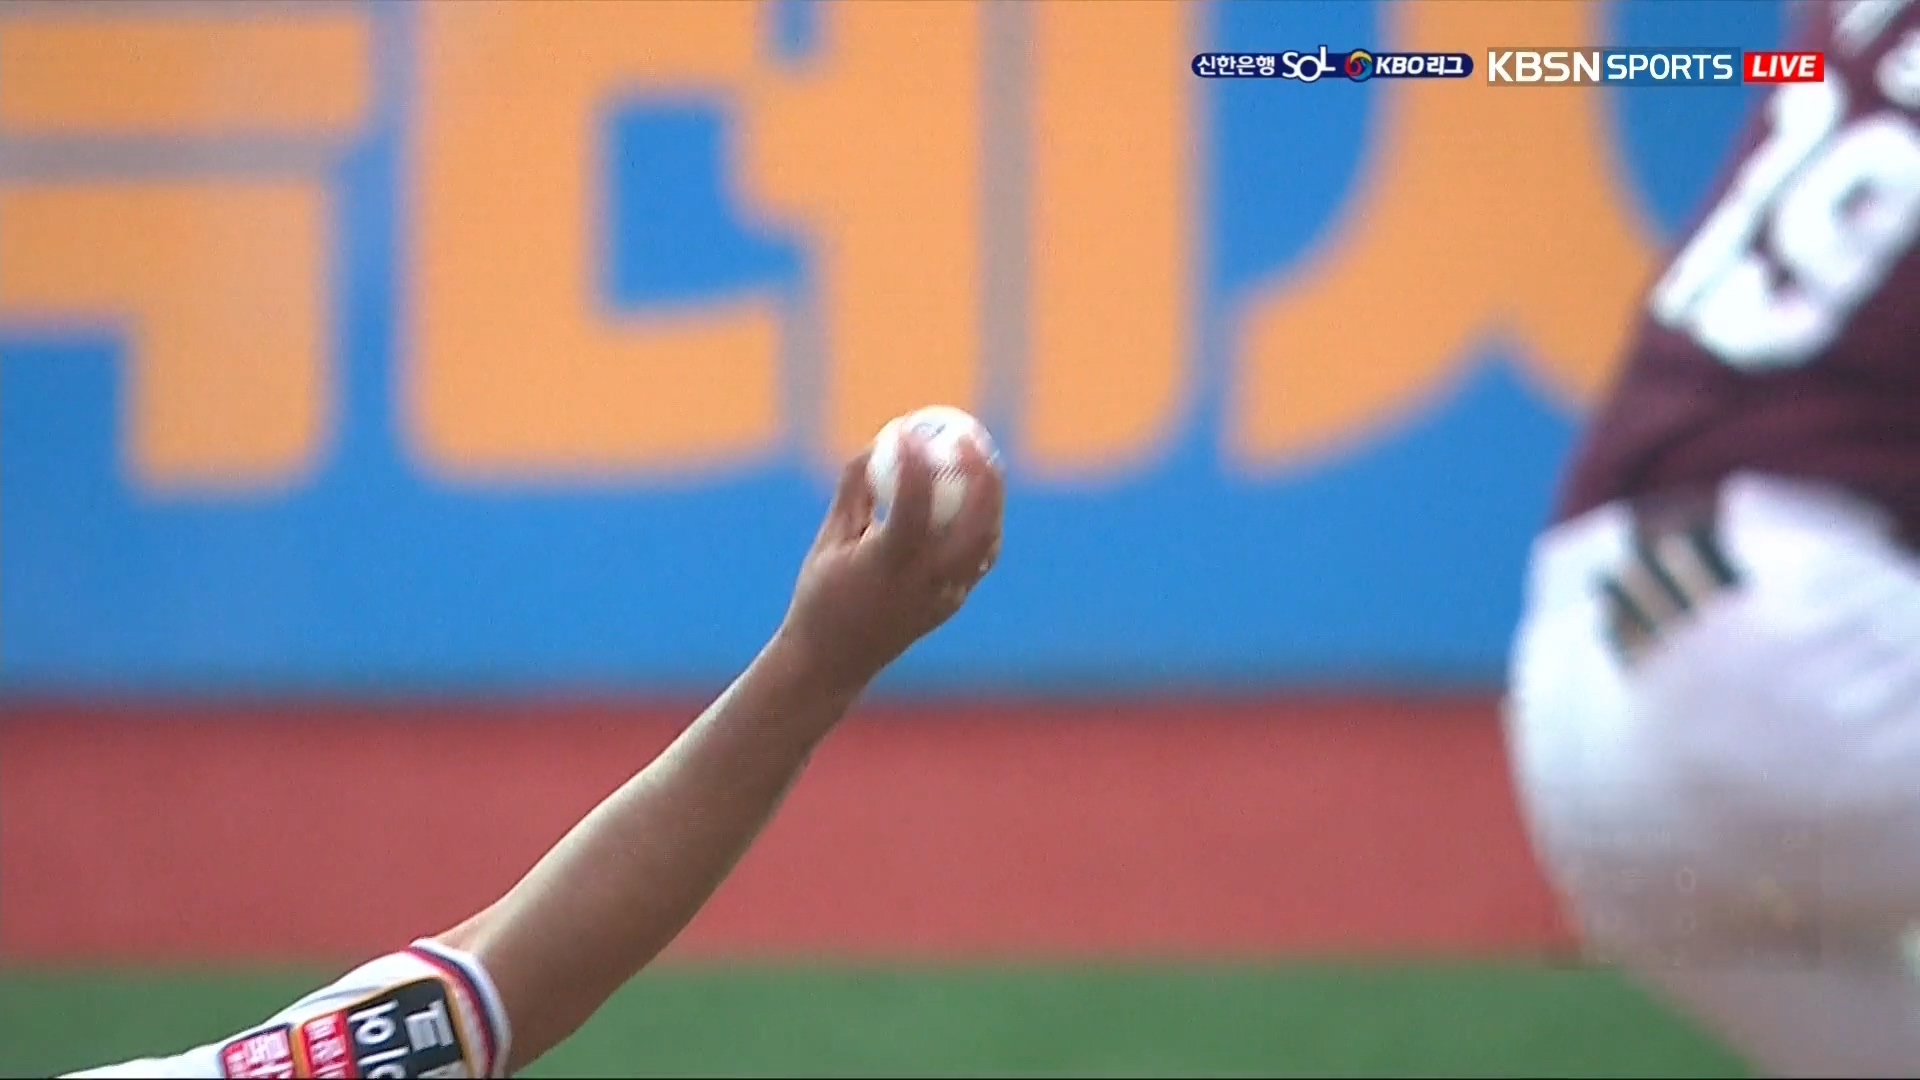zoomin_hand: (498, 402, 1027, 1073)
